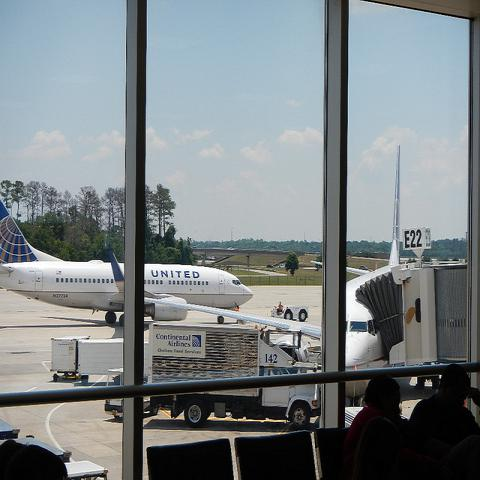truck: (147, 323, 322, 430), (270, 305, 308, 321)
